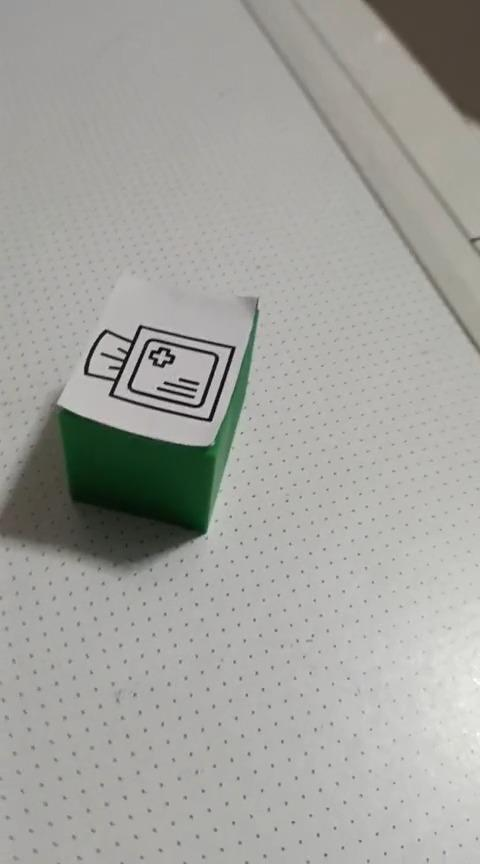Gauze: (55, 270, 259, 534)
